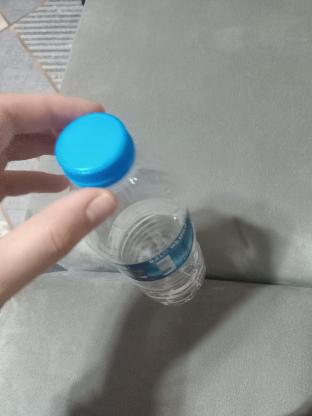Plastic Bottle: (45, 111, 205, 309)
